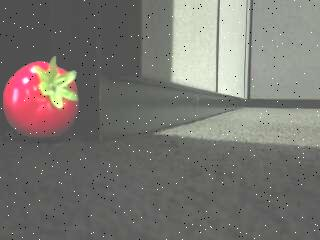Tomato: (2, 56, 80, 137)
